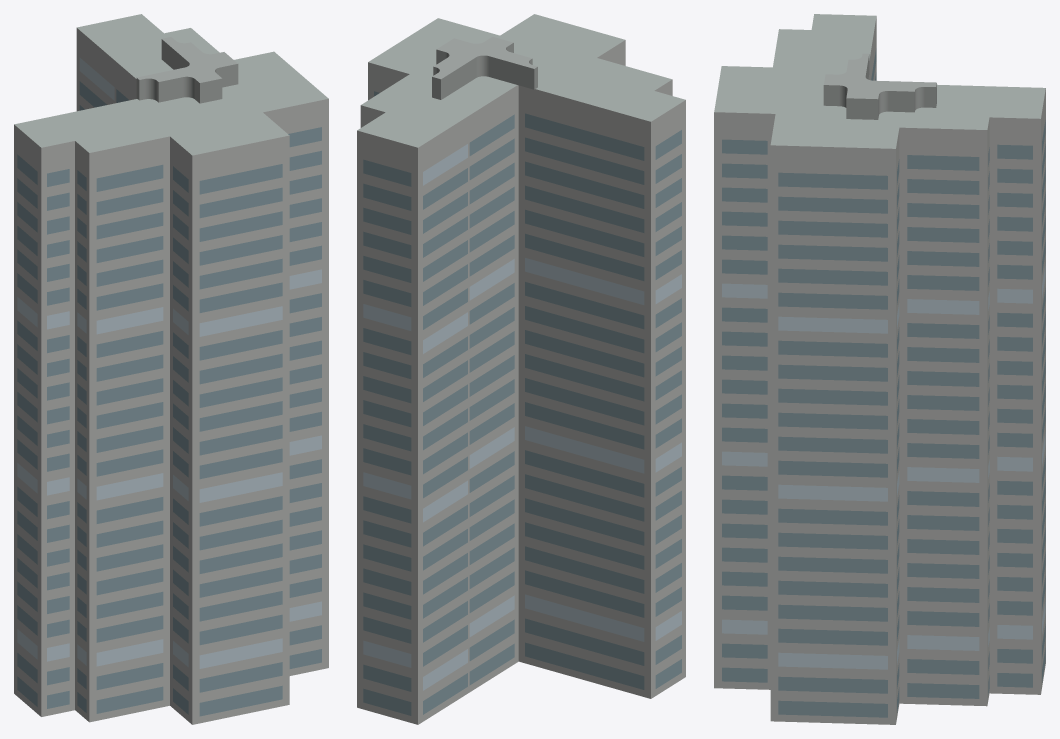
Rendered from fallback-dmc-parkview-xi-completion-220.glb.
3 renders of one model, left to right at view 1: azimuth 30°, elevation 25°; view 2: azimuth 150°, elevation 25°; view 3: azimuth 270°, elevation 25°, orthographic.
Visible parts, largest first — view 1: fallback-dmc-parkview-xi-completion-220; view 2: fallback-dmc-parkview-xi-completion-220; view 3: fallback-dmc-parkview-xi-completion-220.
Boxes of the visible parts, left/top/right/bottom form: fallback-dmc-parkview-xi-completion-220: left=14, top=14, right=328, bottom=724; fallback-dmc-parkview-xi-completion-220: left=357, top=14, right=685, bottom=724; fallback-dmc-parkview-xi-completion-220: left=714, top=14, right=1045, bottom=724.
Bounding box in the file's own units: 33.46 × 69 × 34.75.
